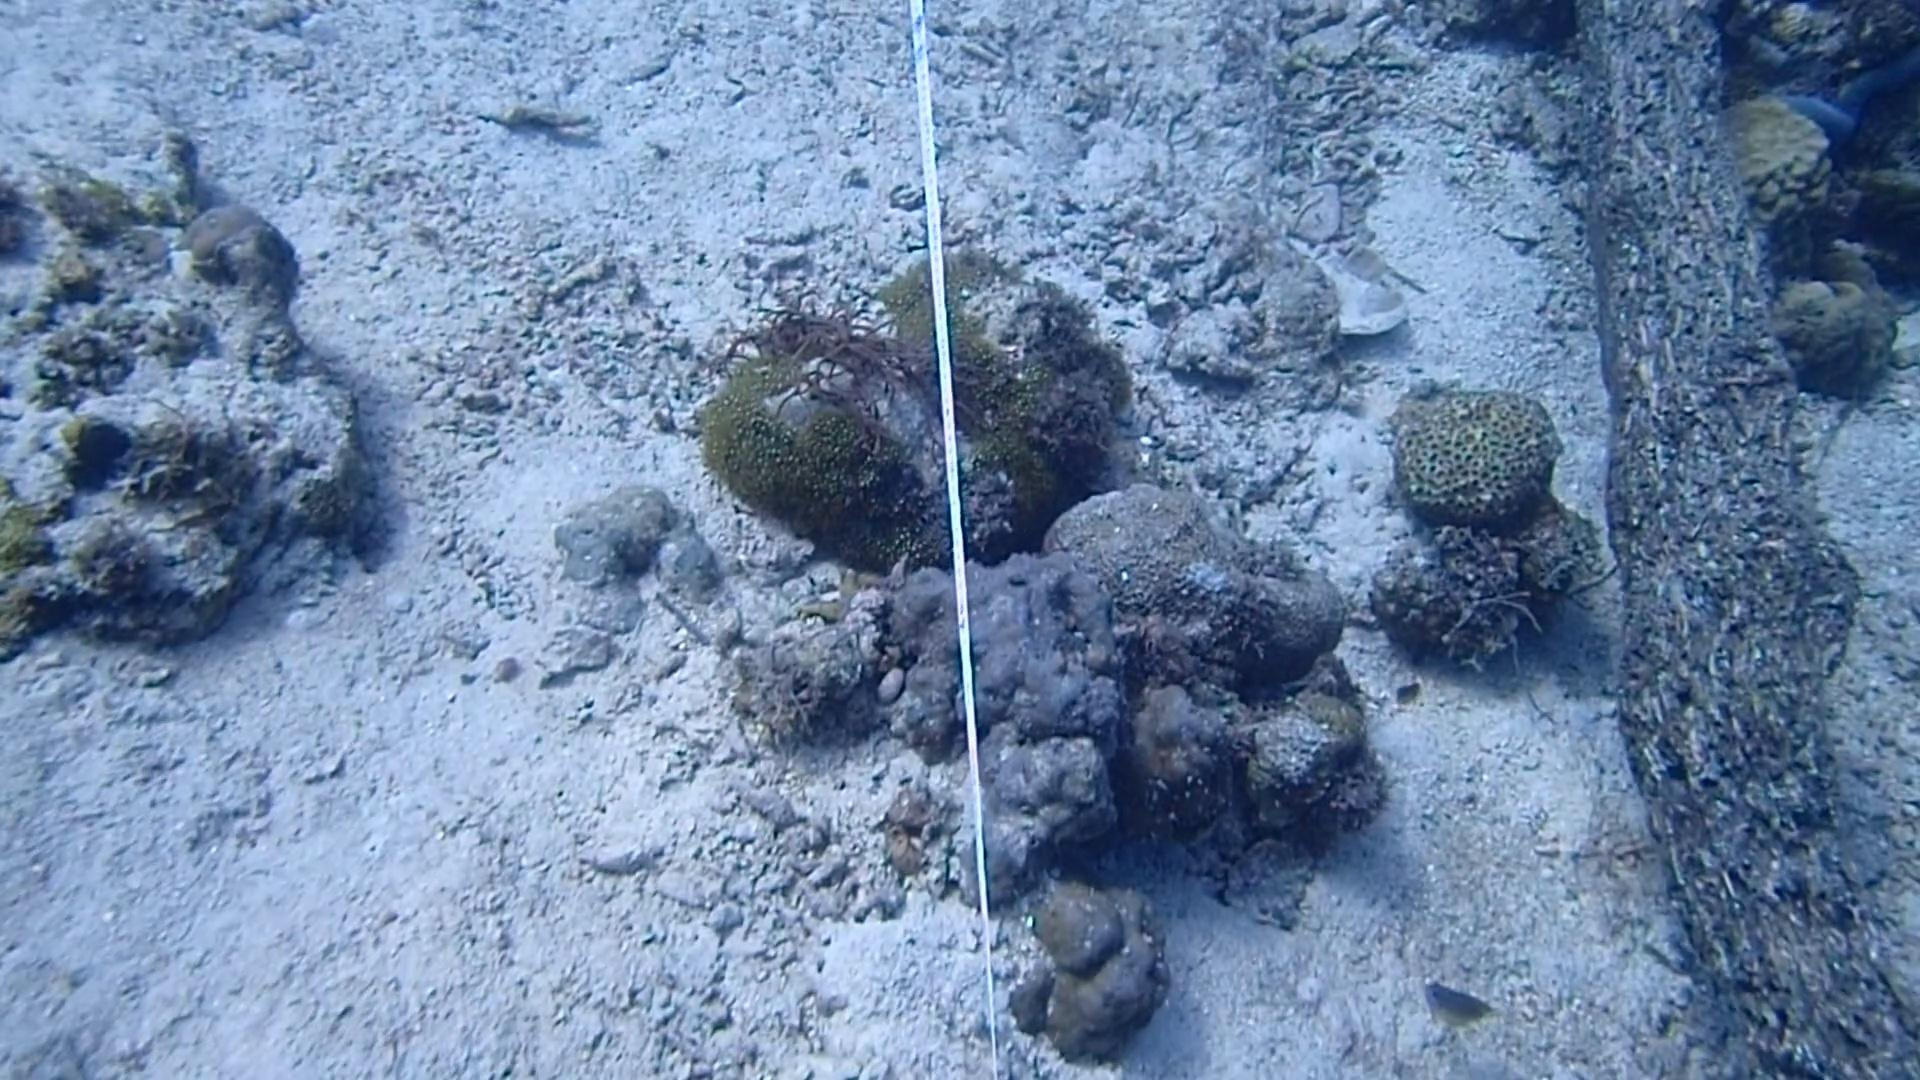Light Fish: (1414, 977, 1510, 1034)
